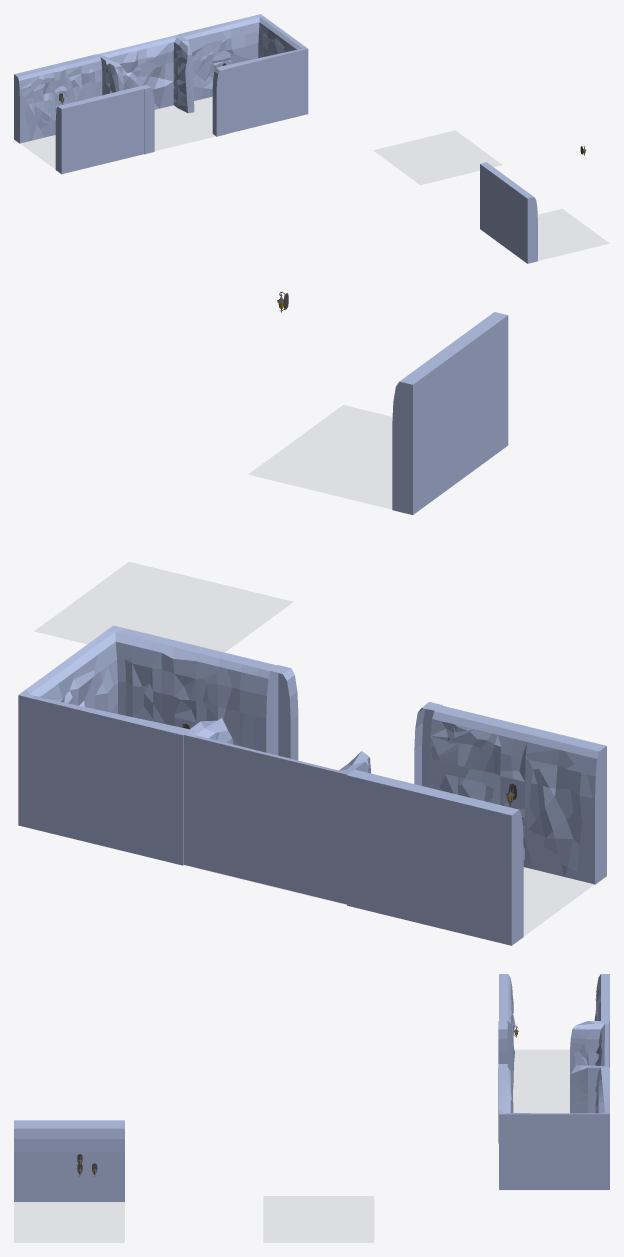
The model's file is labirintus_darabok_lampa_hely_teszt.fbx.
3 views of the same model, one above another, from view 1: azimuth 30°, elevation 25°; view 2: azimuth 150°, elevation 25°; view 3: azimuth 270°, elevation 25° (orthographic). The views are drawn at different scales.
Visible parts, largest first — view 1: Cube.005, Plane.003, Plane.005, Cube.001, Plane.007, Plane, Plane.006, Plane.009, Plane.004; view 2: Cube.005, Plane.003, Plane.005, Cube.001, Plane.007, Plane, Plane.009; view 3: Plane.003, Cube.001, Plane.007, Plane, Plane.005, Plane.009, Cube.005, Plane.006.
Part boxes in pixels (bbox=[...]): Cube.005: bbox=[14, 54, 143, 174]; Plane.003: bbox=[178, 14, 308, 133]; Plane.005: bbox=[97, 34, 226, 154]; Cube.001: bbox=[480, 162, 537, 263]; Plane.007: bbox=[373, 130, 502, 185]; Plane: bbox=[537, 208, 609, 260]; Plane.006: bbox=[154, 105, 215, 151]; Plane.009: bbox=[20, 135, 55, 169]; Plane.004: bbox=[194, 96, 308, 123]; Cube.005: bbox=[347, 705, 606, 945]; Plane.003: bbox=[18, 625, 278, 865]; Plane.005: bbox=[183, 665, 442, 904]; Cube.001: bbox=[392, 312, 508, 514]; Plane.007: bbox=[34, 561, 293, 652]; Plane: bbox=[248, 405, 392, 509]; Plane.009: bbox=[523, 867, 594, 936]; Plane.003: bbox=[499, 1067, 609, 1189]; Cube.001: bbox=[14, 1120, 124, 1201]; Plane.007: bbox=[263, 1196, 374, 1242]; Plane: bbox=[14, 1202, 124, 1242]; Plane.005: bbox=[498, 1021, 609, 1143]; Plane.009: bbox=[513, 1049, 569, 1096]; Cube.005: bbox=[499, 974, 609, 1089]; Plane.006: bbox=[513, 1096, 569, 1113].
Bounding box in the file's own units: 3345 × 714 × 4300.
